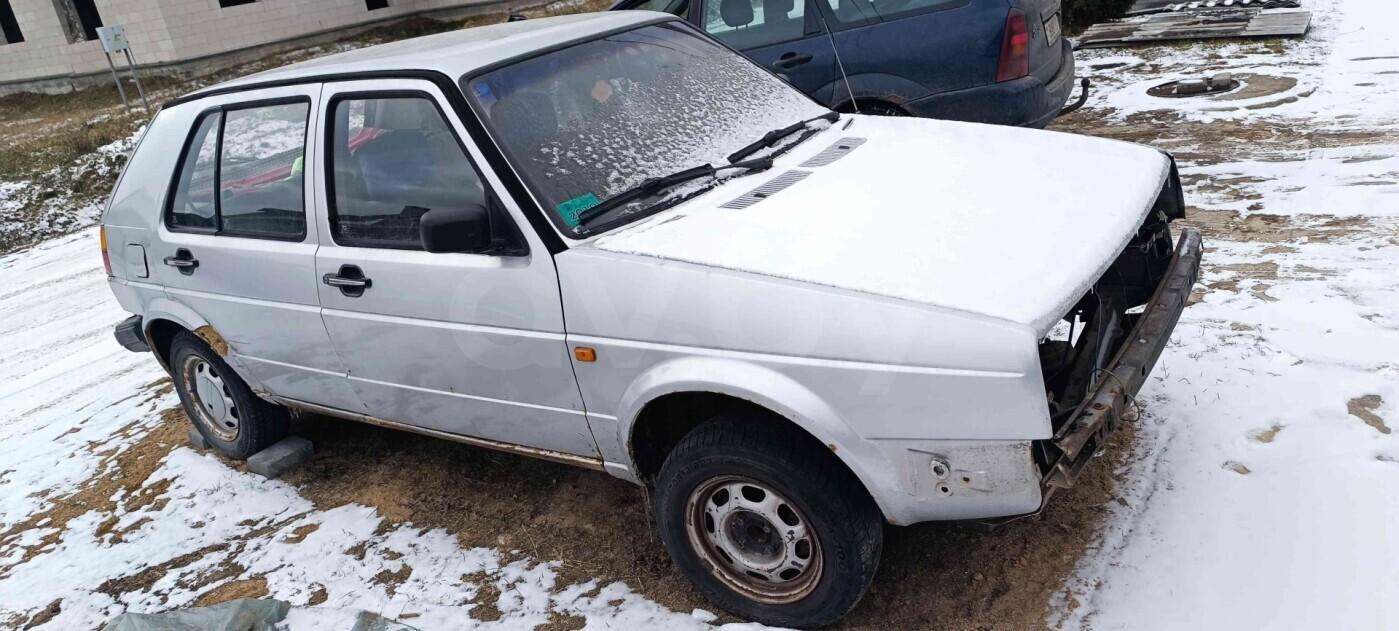Golf_1983-1992: (93, 11, 1203, 624)
